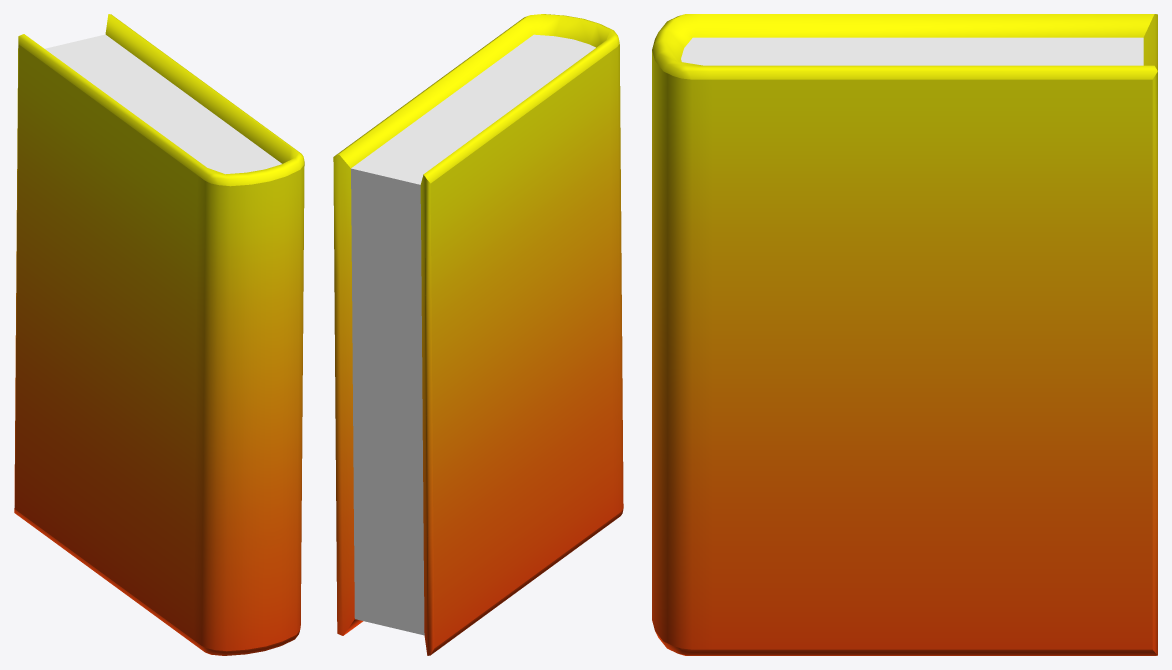
Rendered from Book_5.fbx.
The picture shows the model from 3 angles, left to right: view 1: azimuth 30°, elevation 25°; view 2: azimuth 150°, elevation 25°; view 3: azimuth 270°, elevation 25°; orthographic projection. The views are drawn at different scales.
Parts seen in each view (by area): view 1: Book_5; view 2: Book_5; view 3: Book_5.
Part boxes in pixels (x1,y1,x2,y2): Book_5: (14, 14, 304, 655); Book_5: (333, 14, 623, 655); Book_5: (652, 14, 1157, 655).
Size of the model in its own units: 0.0746 by 0.3413 by 0.2636.
